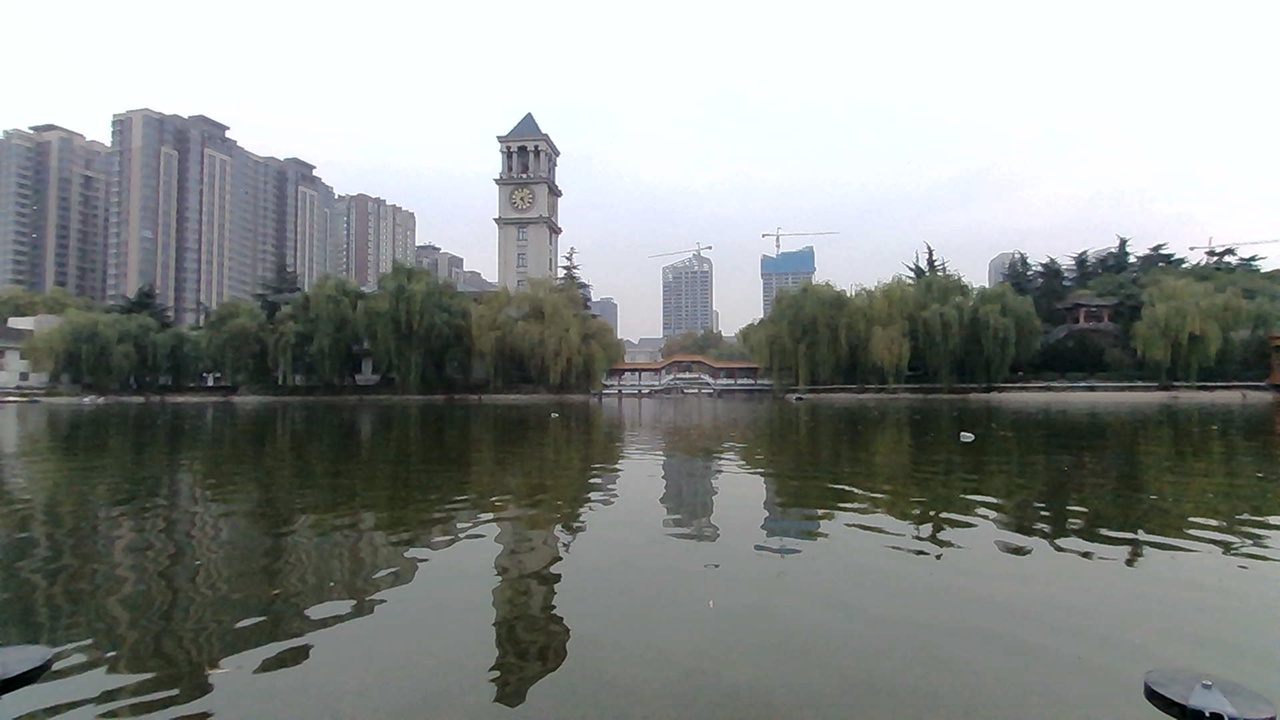bottle: (951, 427, 983, 448)
